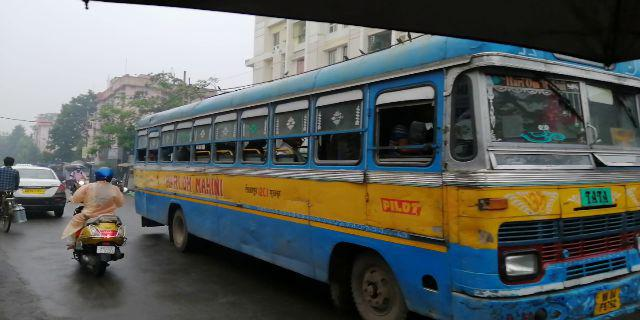Bus: (135, 58, 629, 305)
Car: (4, 162, 66, 220)
Motorbike: (70, 169, 129, 271)
